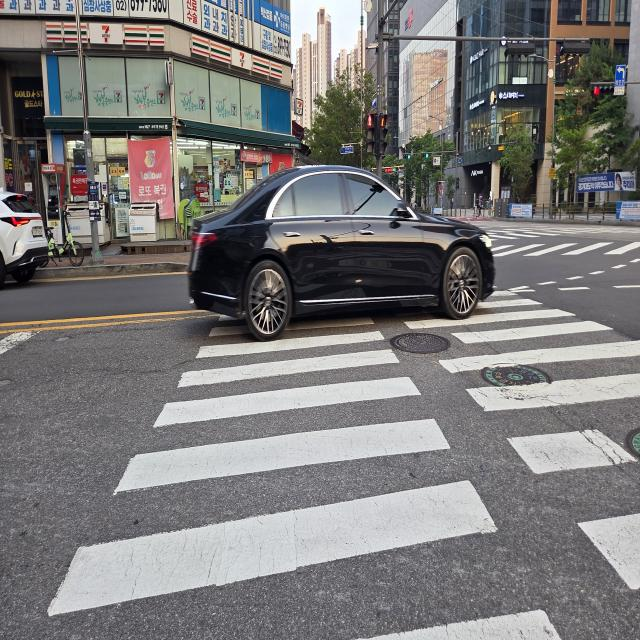car: (173, 134, 510, 337)
